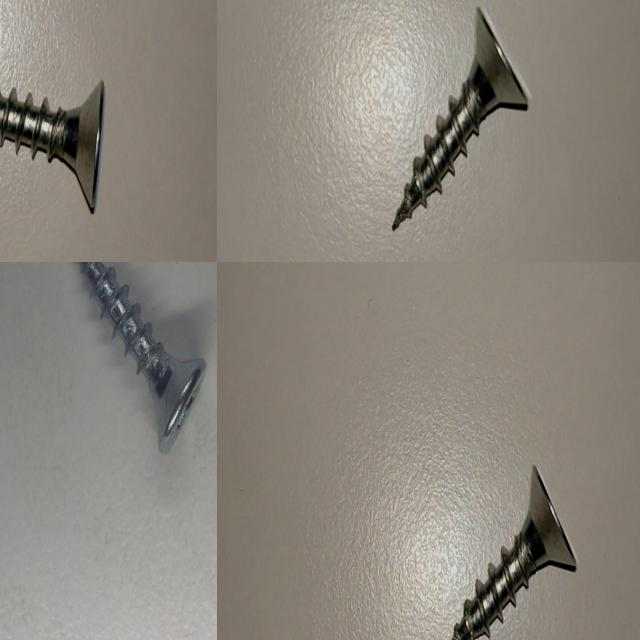Screw: (392, 7, 531, 229), (81, 262, 206, 454), (451, 464, 577, 640), (0, 80, 105, 212)
